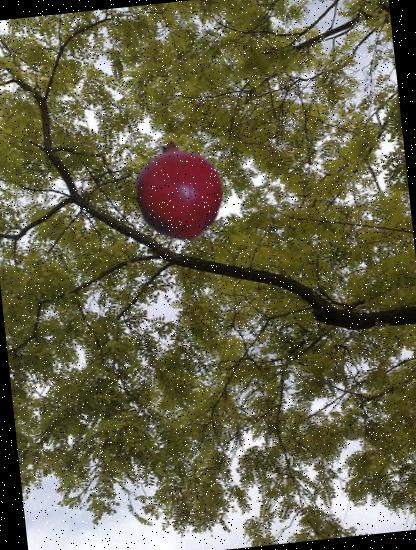Pomegranate: (122, 134, 236, 248)
